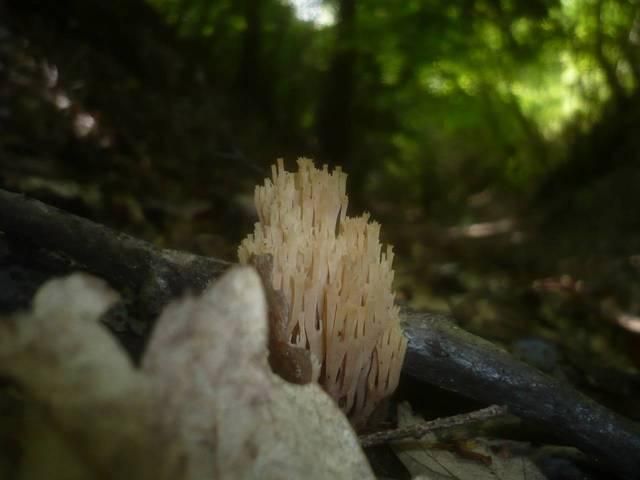edible_mushroom: (235, 154, 409, 429)
